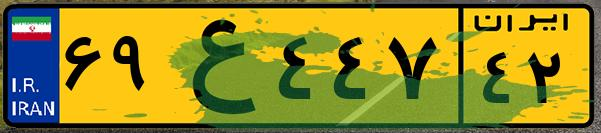2: (525, 38, 570, 115)
4: (270, 28, 330, 110), (330, 28, 385, 110), (475, 38, 525, 113)
6: (57, 26, 110, 100)
7: (385, 28, 445, 110)
9: (110, 28, 158, 98)
ع: (158, 12, 270, 120)
